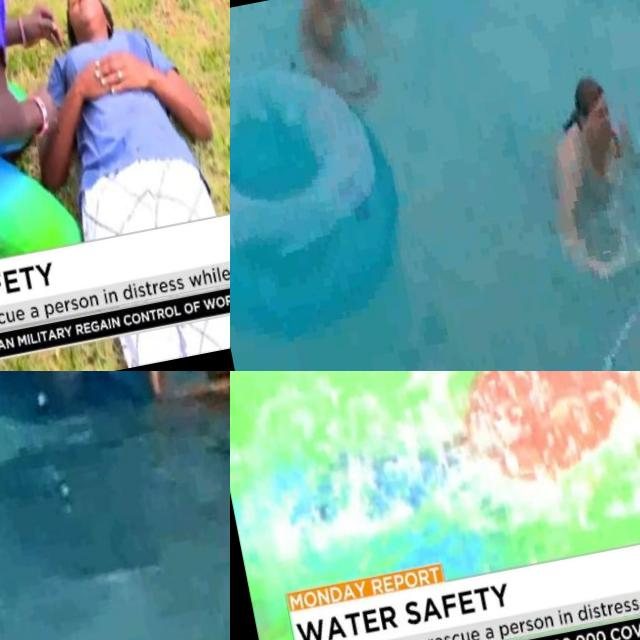drowning: (502, 38, 640, 297)
out of water: (39, 0, 221, 247), (0, 0, 105, 271)
swimming: (318, 371, 640, 502), (285, 0, 391, 101), (137, 371, 230, 438)
